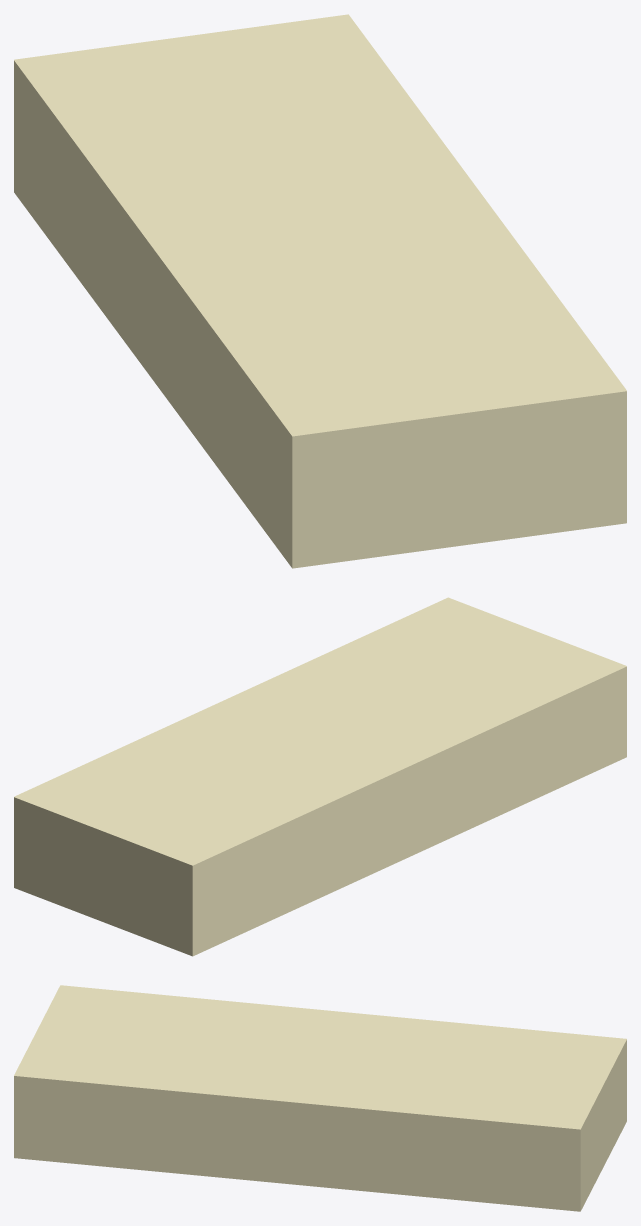
File: msb_noord_m13_m16.glb
3 views of the same model, one above another, from view 1: azimuth 30°, elevation 25°; view 2: azimuth 150°, elevation 25°; view 3: azimuth 270°, elevation 25° (orthographic). The views are drawn at different scales.
Parts seen in each view (by area): view 1: msb_noord_m13_m16_lod0; view 2: msb_noord_m13_m16_lod0; view 3: msb_noord_m13_m16_lod0.
Boxes of the visible parts, left/top/right/bottom form: msb_noord_m13_m16_lod0: left=14, top=14, right=626, bottom=568; msb_noord_m13_m16_lod0: left=14, top=597, right=626, bottom=956; msb_noord_m13_m16_lod0: left=14, top=985, right=626, bottom=1211.
Size of what is drawn, in the model's own units: 16.9 by 4.52 by 30.4.
